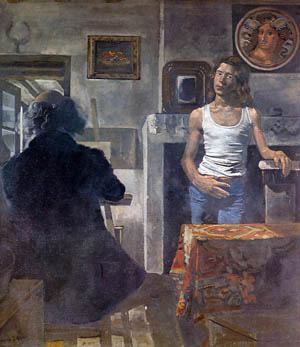person: (1, 90, 148, 324), (176, 55, 293, 221)
